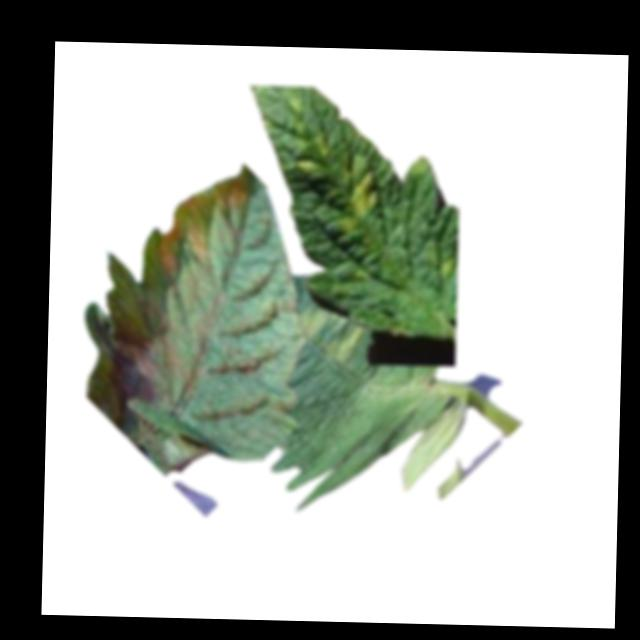Leaf_Mold: (150, 169, 251, 286), (295, 306, 362, 364), (333, 159, 381, 238), (293, 125, 334, 180)
